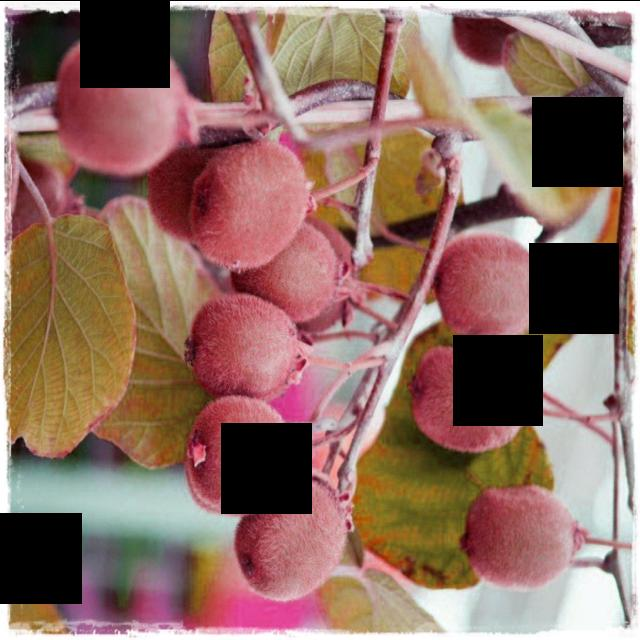kiwi: (50, 32, 196, 180), (190, 136, 317, 276), (405, 341, 539, 461), (235, 473, 355, 605), (181, 392, 299, 525), (461, 475, 585, 601), (181, 289, 307, 407), (234, 217, 342, 333), (436, 232, 550, 340), (145, 140, 229, 248), (301, 213, 365, 343)
